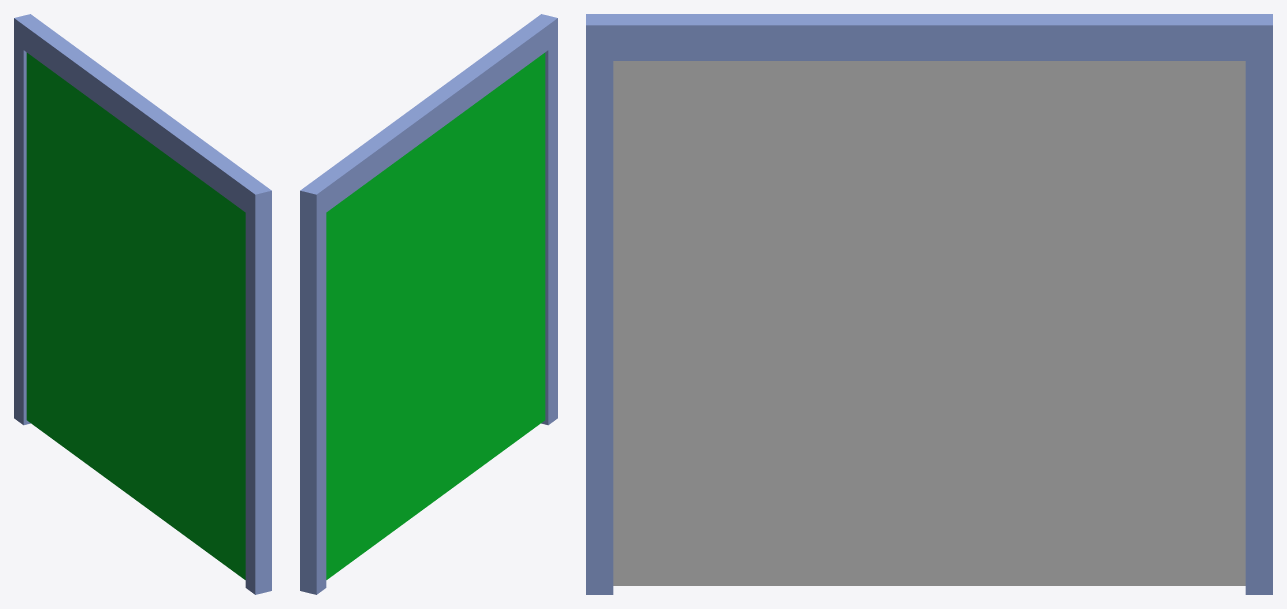
File: endpoint_doorframe.fbx
3 views of the same model, side by side, from view 1: azimuth 30°, elevation 25°; view 2: azimuth 150°, elevation 25°; view 3: azimuth 270°, elevation 25° (orthographic). The views are drawn at different scales.
Visible parts, largest first — view 1: Cube; view 2: Cube; view 3: Cube.
Part boxes in pixels (x1=…): Cube: x1=14, y1=14, x2=271, y2=594; Cube: x1=300, y1=14, x2=557, y2=594; Cube: x1=586, y1=14, x2=1272, y2=594.
Size of the model in its own units: 10.54 by 244 by 266.
